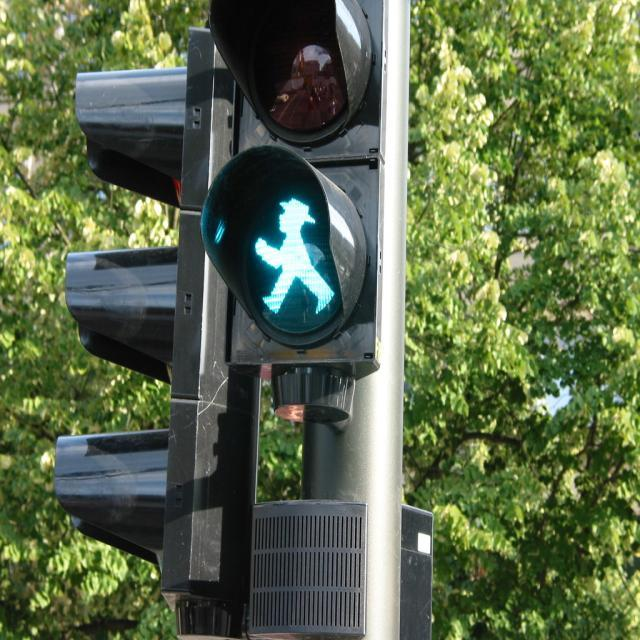off traffic light: (55, 28, 261, 592)
traffic light: (202, 0, 385, 363)
